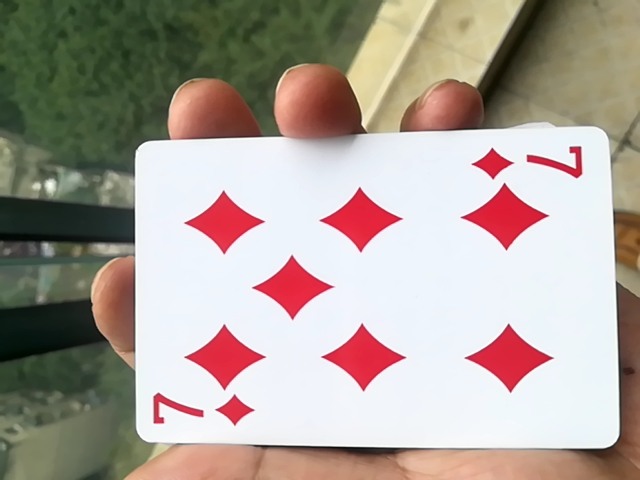fk 7: (117, 129, 615, 459)
